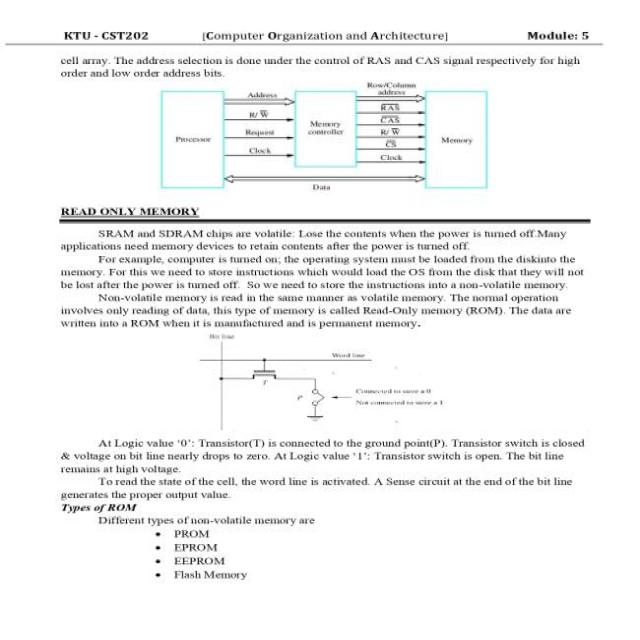Figure Detection - v3 Dataset Version2: (153, 79, 496, 195), (191, 329, 462, 434)
